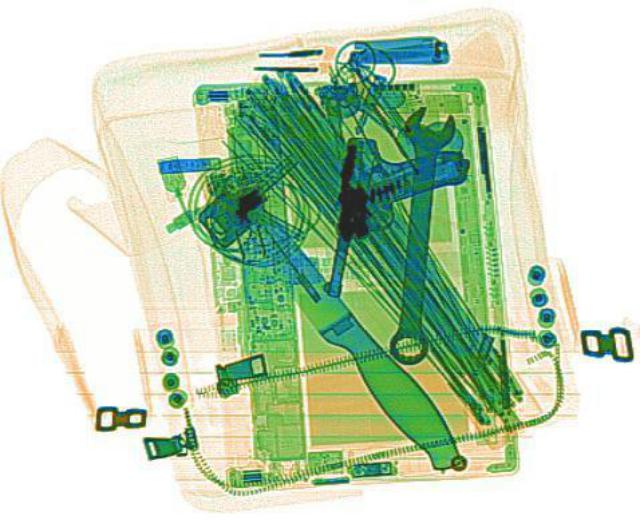Gun: (316, 134, 472, 304)
Knife: (228, 194, 474, 474)
Wrench: (379, 101, 457, 361)
